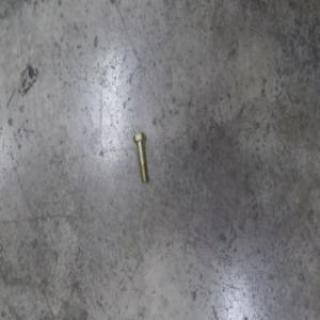Bolttrack_idkeyframe: (131, 130, 147, 182)
